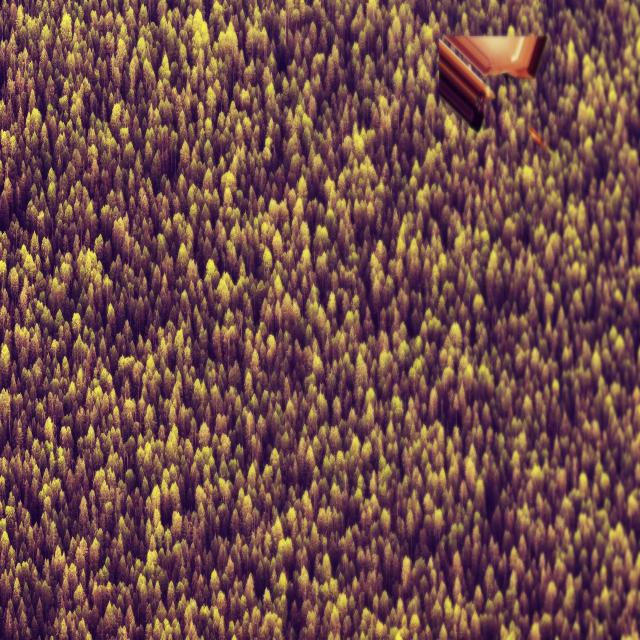airplane: (437, 31, 547, 131)
